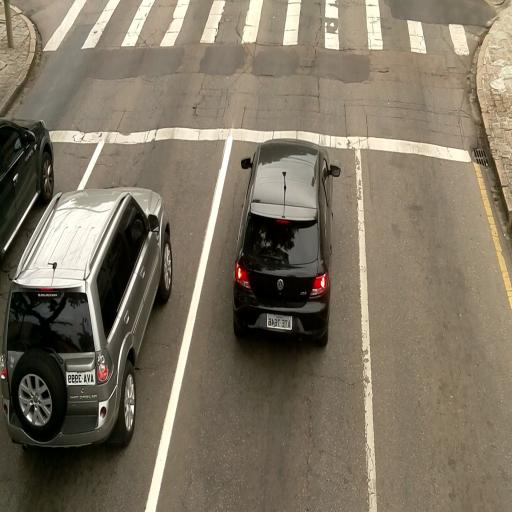car: (4, 187, 172, 448), (230, 136, 339, 346), (0, 118, 53, 276)
